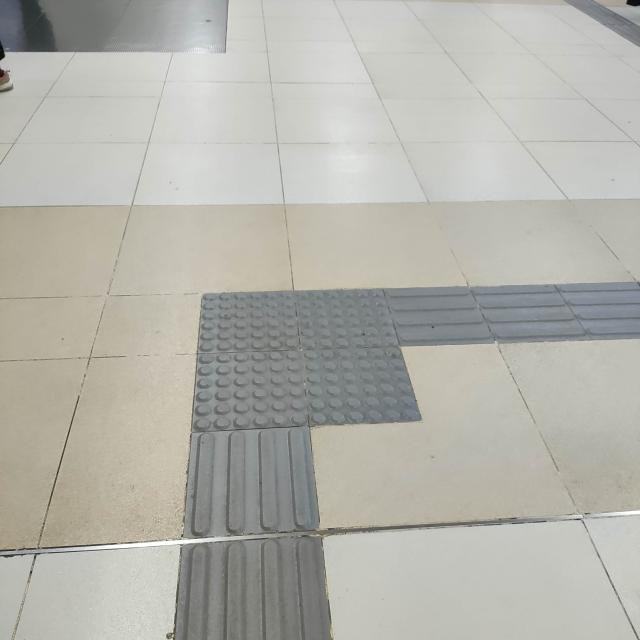kanan: (149, 211, 596, 488)
